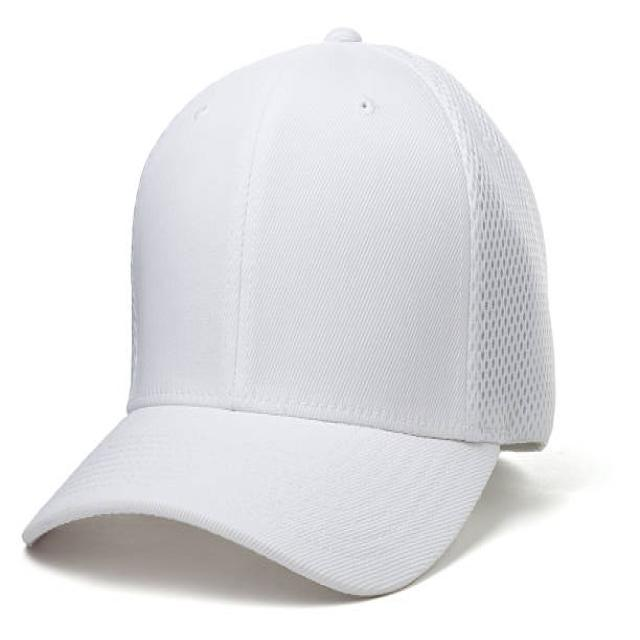Nonhelmet: (20, 24, 557, 600)
